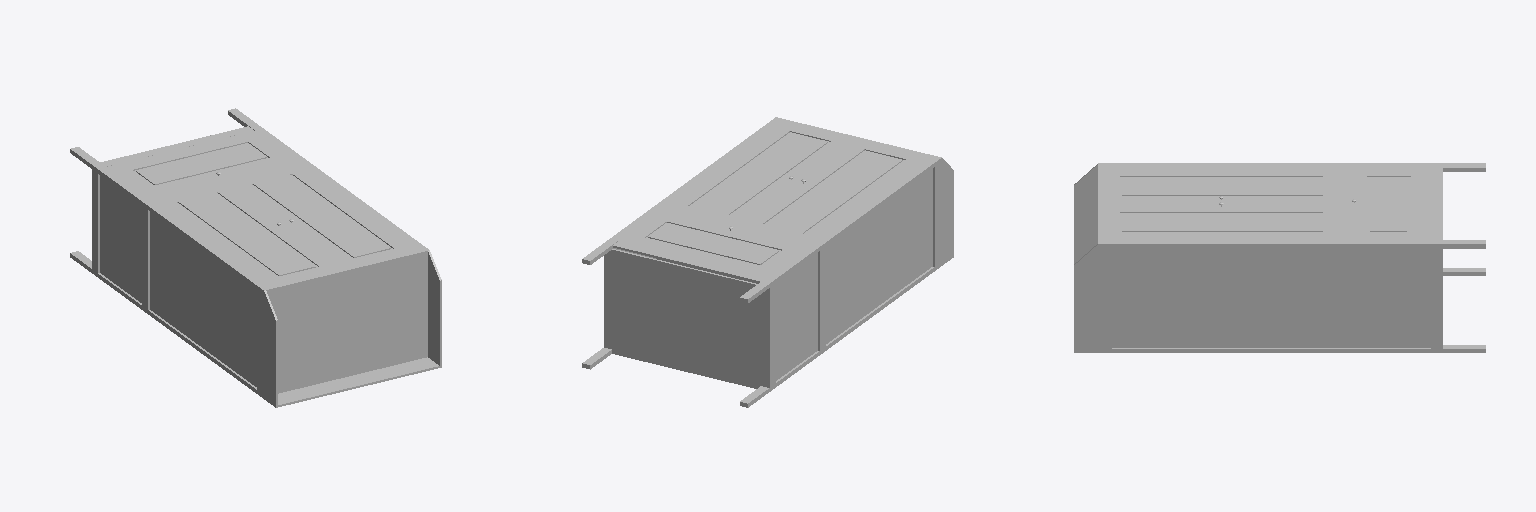
The model's file is SundvikWardrobe.obj.
3 views of the same model, side by side, from view 1: azimuth 30°, elevation 25°; view 2: azimuth 150°, elevation 25°; view 3: azimuth 270°, elevation 25° (orthographic).
Visible parts, largest first — view 1: obj_0; view 2: obj_0; view 3: obj_0.
Boxes of the visible parts, x1=… form: obj_0: x1=70, y1=108, x2=441, y2=407; obj_0: x1=582, y1=117, x2=953, y2=407; obj_0: x1=1074, y1=163, x2=1485, y2=352.
Bounding box in the file's own units: 80 × 52 × 172.